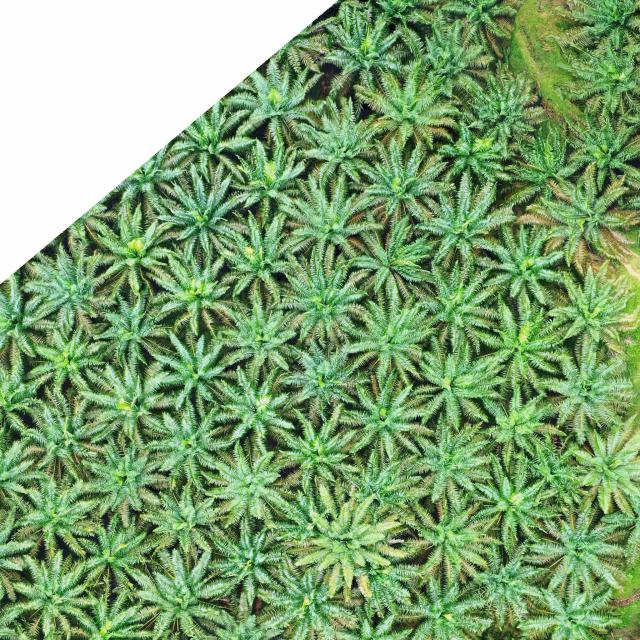Tree: (266, 484, 400, 607), (522, 159, 640, 275), (468, 286, 580, 402), (530, 330, 640, 448), (405, 164, 520, 272), (460, 444, 570, 556), (382, 491, 495, 600), (530, 493, 637, 608), (266, 242, 376, 351), (405, 326, 519, 430), (330, 362, 440, 469), (351, 56, 466, 156), (127, 538, 237, 640), (454, 528, 560, 630), (414, 251, 515, 358), (338, 206, 444, 306), (70, 428, 176, 527), (271, 335, 373, 437), (241, 554, 361, 640), (470, 376, 573, 474), (400, 414, 500, 514), (342, 286, 439, 388), (275, 177, 384, 267), (11, 380, 105, 483), (137, 393, 231, 495), (214, 209, 309, 309), (142, 325, 243, 419), (320, 441, 436, 522), (351, 138, 454, 229), (77, 352, 172, 450), (545, 259, 638, 359), (6, 469, 108, 560), (268, 406, 364, 502), (291, 94, 385, 191), (210, 359, 300, 459), (149, 164, 244, 258), (187, 437, 282, 531), (148, 242, 238, 338), (400, 18, 496, 108), (82, 286, 180, 374), (0, 551, 96, 640), (213, 290, 302, 385), (203, 513, 289, 608), (552, 28, 640, 119), (460, 62, 553, 146), (381, 570, 492, 640), (476, 223, 564, 311), (67, 511, 156, 598), (137, 477, 231, 558), (500, 120, 590, 203), (17, 318, 111, 396), (227, 138, 310, 219), (421, 116, 518, 184), (566, 429, 640, 514), (557, 116, 639, 192)
